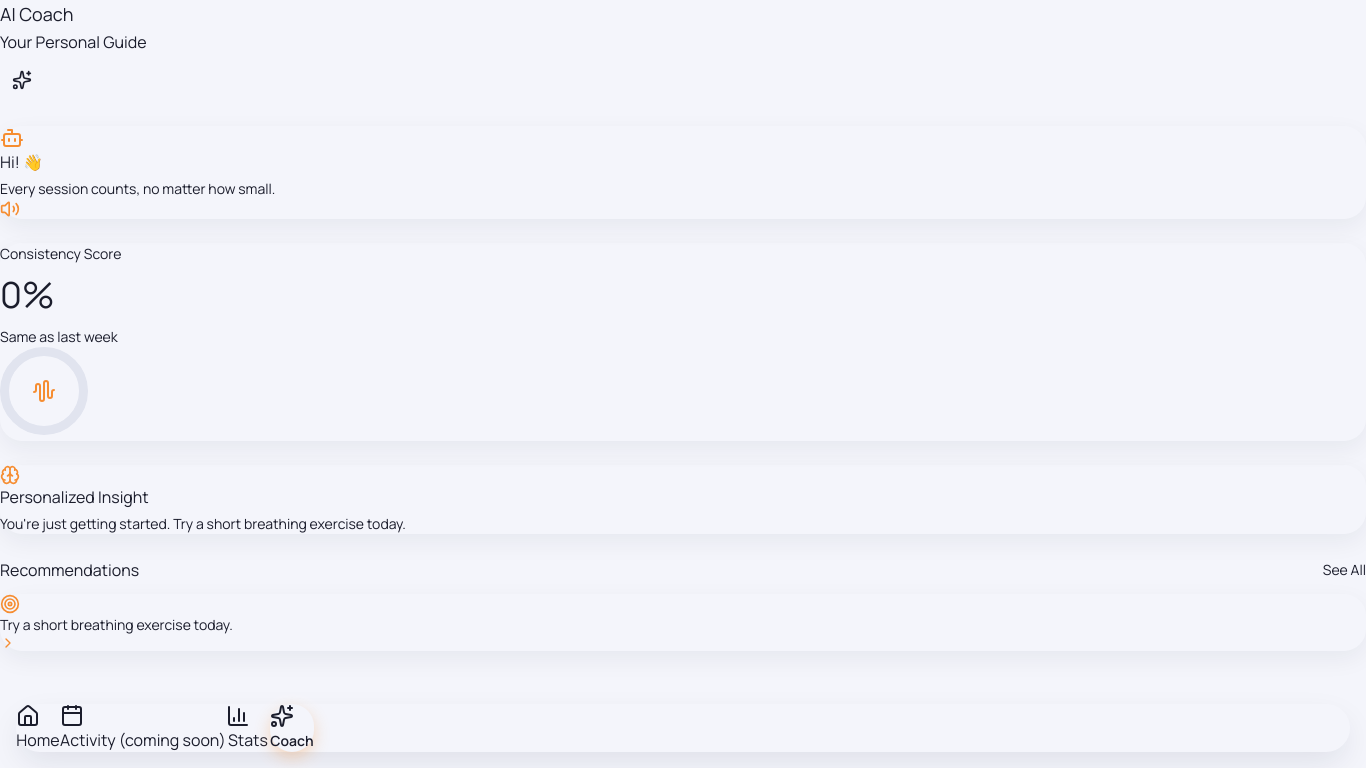
it: CoachView › toggles the chat panel from the sparkle button
expect the heading "AI Coach" is shown: met, box [0,2,73,26]
expect the text "Ask your AI Coach" is not shown: met
What coordinates should you click on to do the following:
click the button named "Ask your AI Coach"
I would click on:
 (22, 80)
Its box is [0,58,44,102].
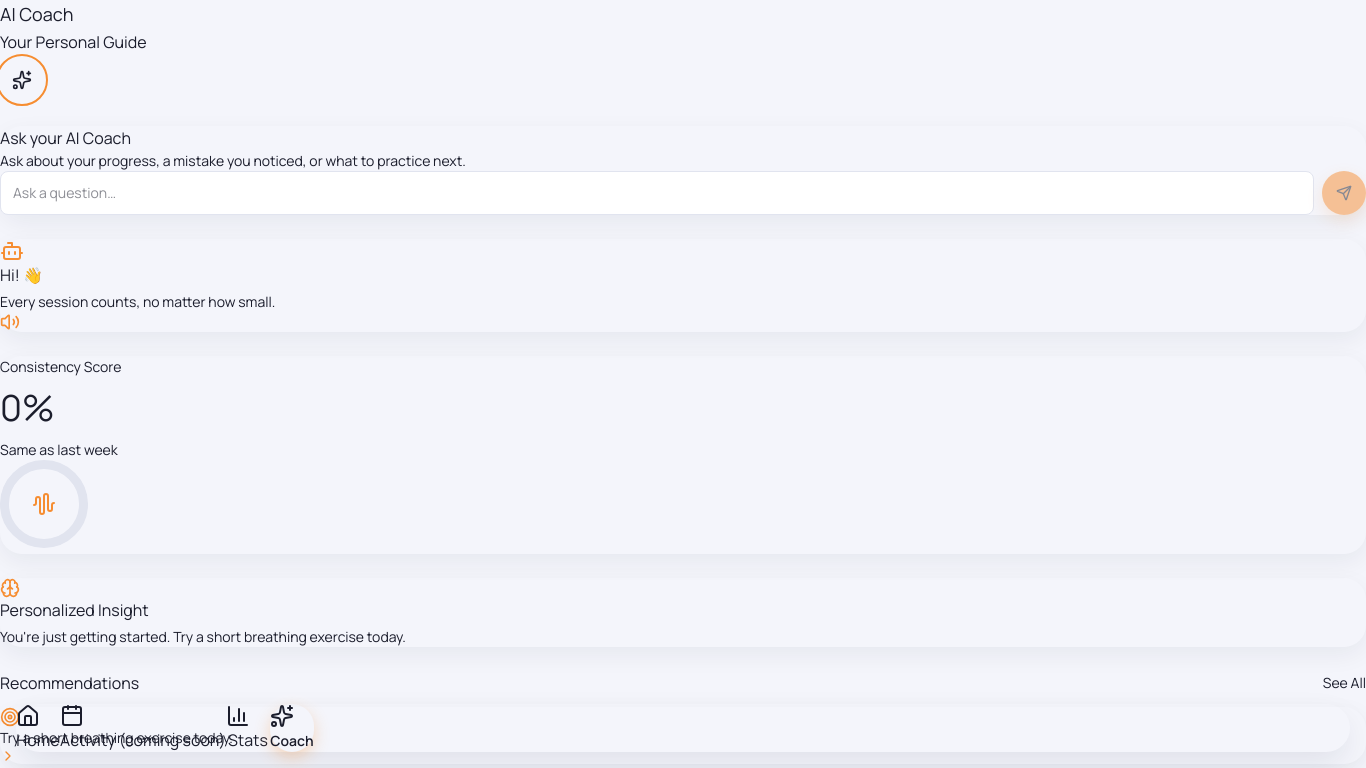
expect the text "Ask your AI Coach" is shown: met, box [0,127,131,149]
What coordinates should you click on to do the following:
click the button named "Hide chat"
I would click on:
 (22, 80)
Its box is [0,58,44,102].
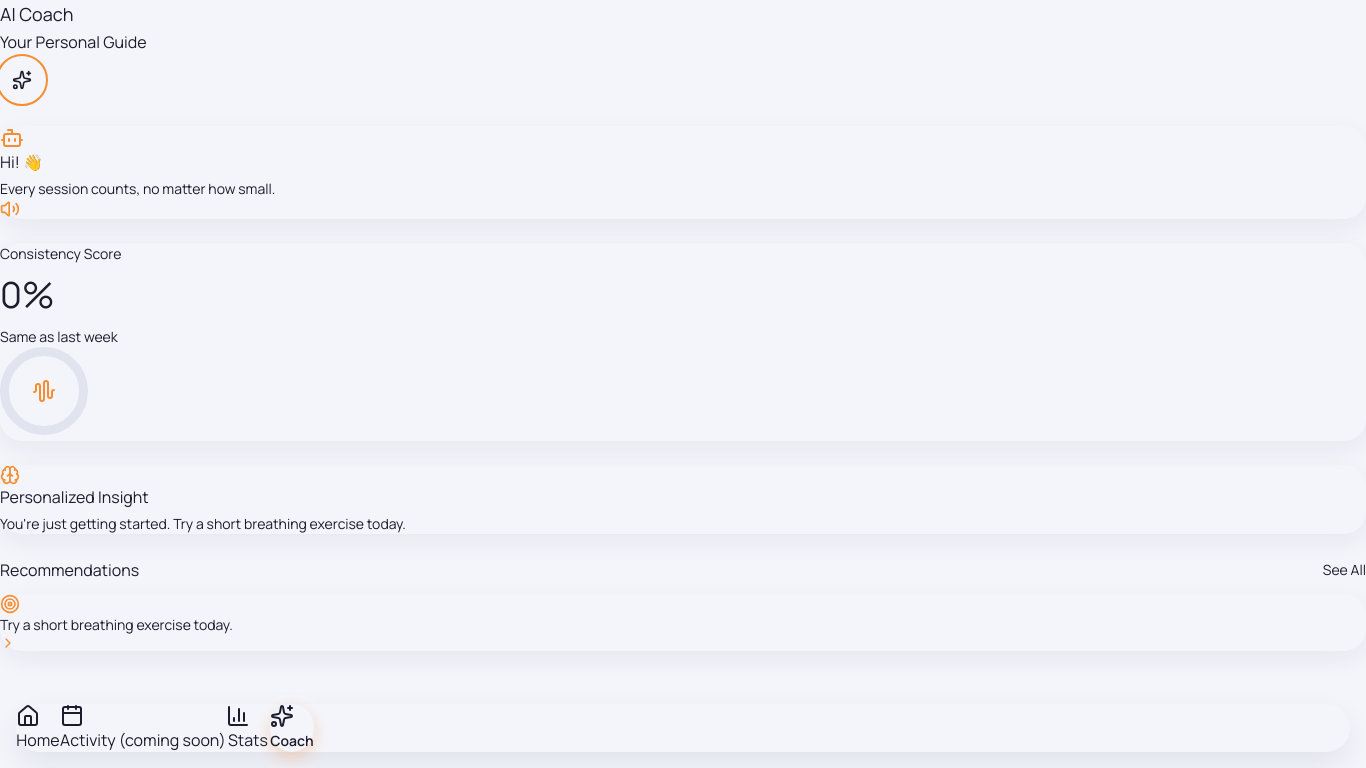
expect the text "Ask your AI Coach" is gone: met
